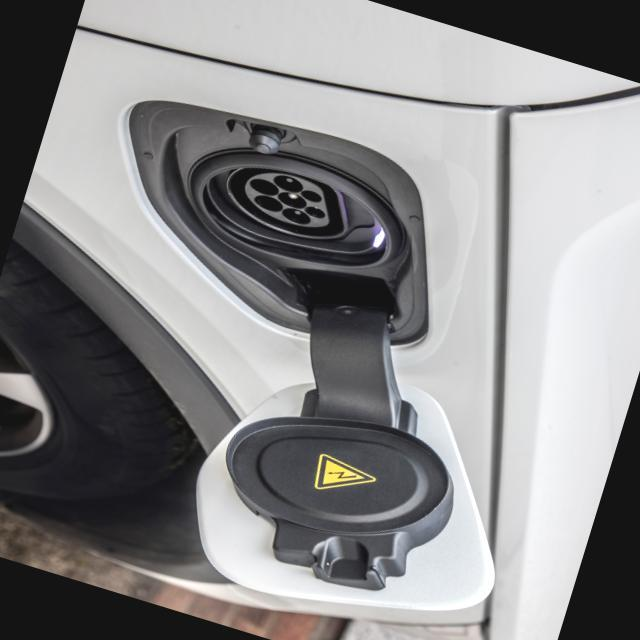Type 2: (196, 143, 382, 273)
